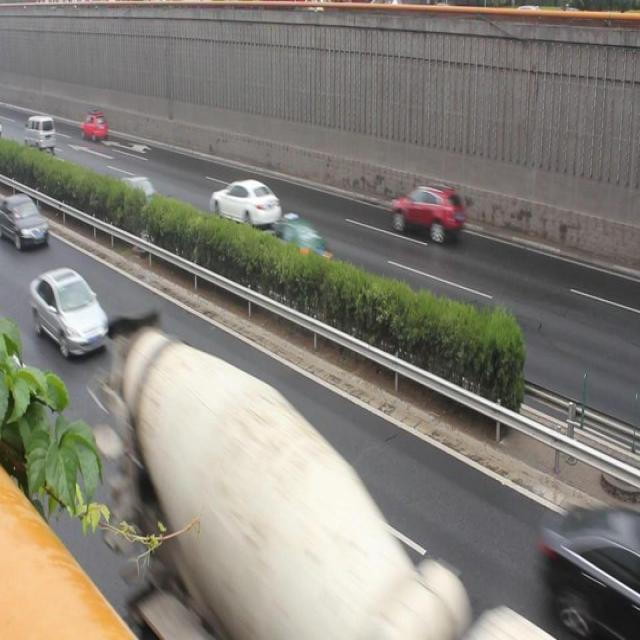bus: (106, 338, 545, 640)
car: (32, 266, 106, 351), (388, 178, 463, 246), (208, 175, 282, 236), (270, 214, 334, 275), (0, 192, 50, 251), (114, 170, 164, 214), (81, 110, 109, 141)
